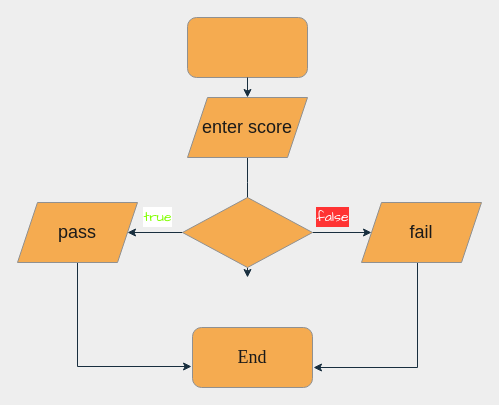
Some shapes in this 499 by 405 pixel diagram are drawn without their labels. Each missing label, with the centre of its shape:
"if score >=60" belongs at point 247,232.
"Start" belongs at point 247,47.
